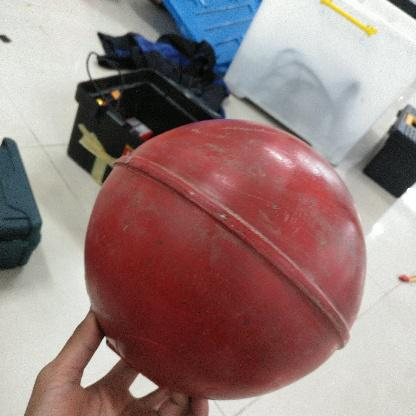red_buoy: (81, 112, 368, 388)
